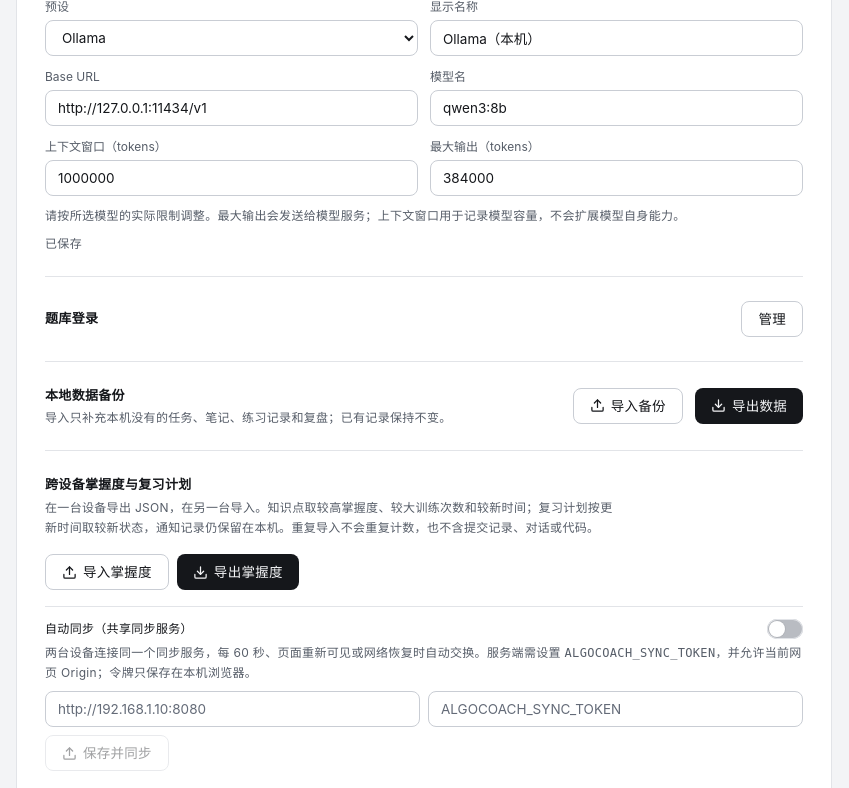
Test: provider setup return path › exports local memory even when LeetCode submission history is unavailable
(page scrolled)
Click the button "导出数据" at (749, 406), box [695,388,803,424]
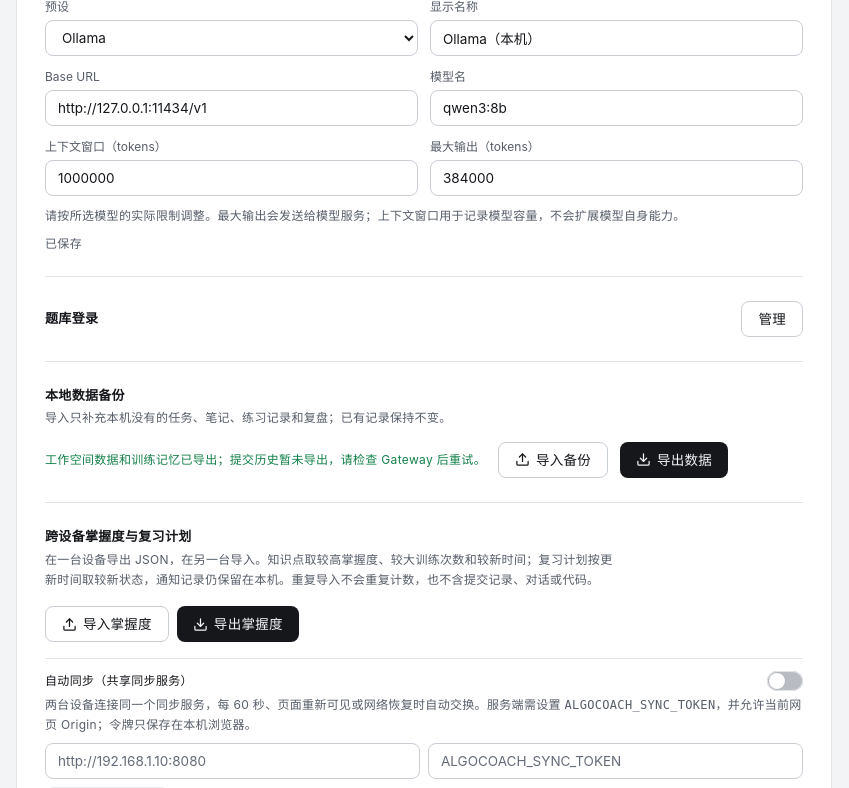
Check: the message "工作空间数据和训练记忆已导出；提交历史暂未导出，请检查 Gateway 后重试。" is shown, box [45,452,486,468]
